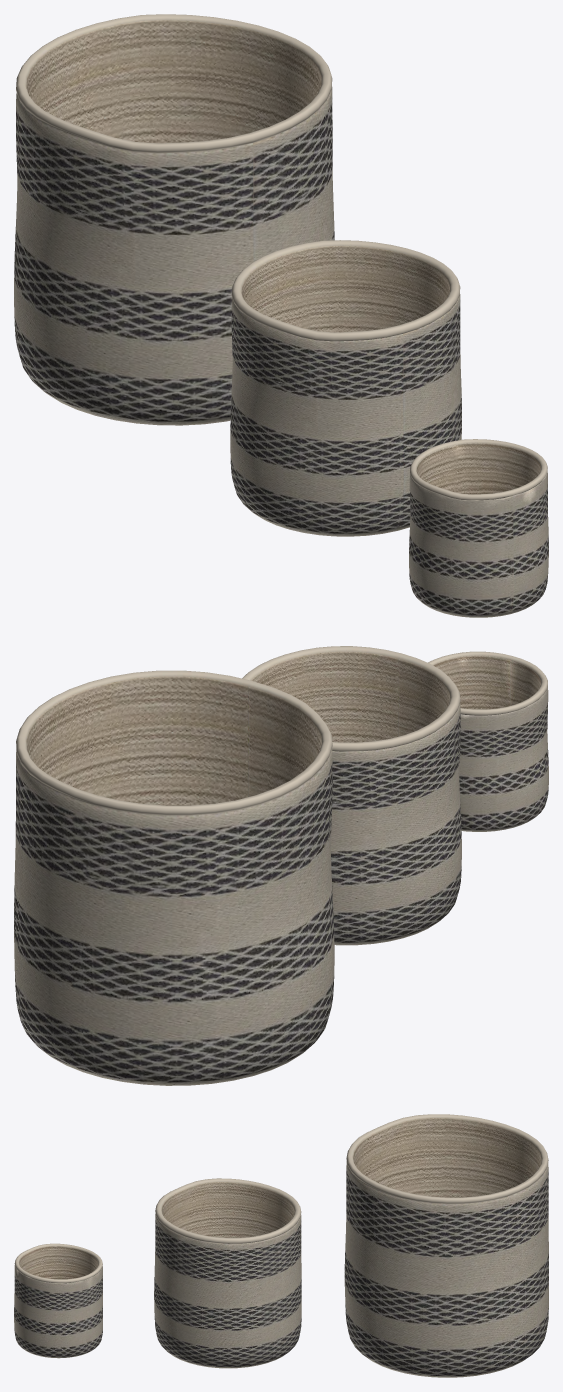
The model's file is B07HSJX4TG.glb.
3 views of the same model, one above another, from view 1: azimuth 30°, elevation 25°; view 2: azimuth 150°, elevation 25°; view 3: azimuth 270°, elevation 25° (orthographic). The views are drawn at different scales.
Parts seen in each view (by area): view 1: RootNode; view 2: RootNode; view 3: RootNode.
Part boxes in pixels (box(x1,y1,x2,y2)): RootNode: box(14, 14, 548, 617); RootNode: box(14, 646, 548, 1085); RootNode: box(14, 1114, 548, 1377).
Size of the model in its own units: 0.3514 by 0.3561 by 0.917.
1 material, 1 textured.
